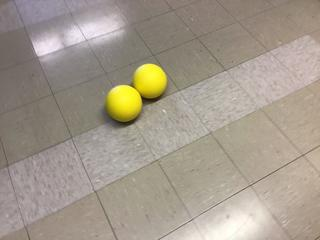power_cell: (104, 83, 144, 124), (133, 59, 168, 100)
